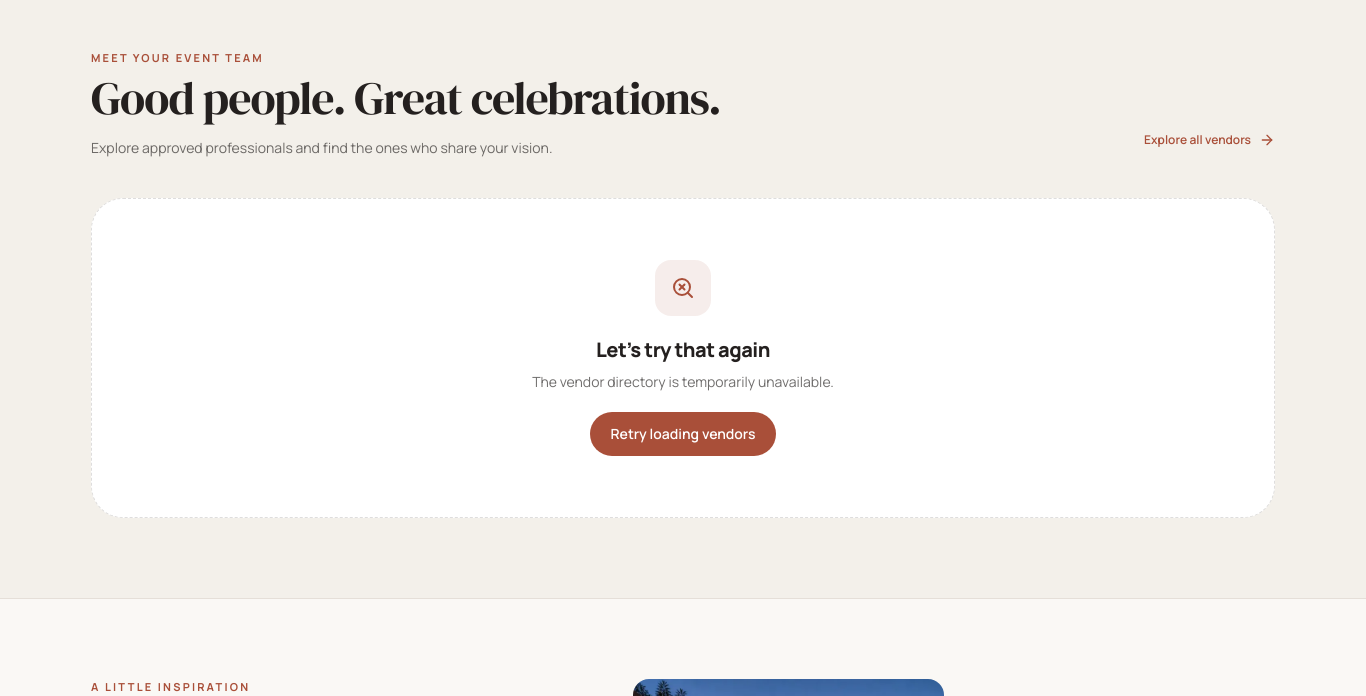
it: marketplace homepage › shows the actual API failure and retries without inserting example vendors
This screenshot has width=1366, height=696.
(page scrolled)
Expected: the text "The vendor directory is temporarily unavailable." is shown, 532,372 -> 834,392
Expected: the link "View details" is not shown
What coordinates should you click on to do the following:
click the button "Retry loading vendors"
I would click on:
 (683, 434)
Its box is 590,412 -> 776,456.
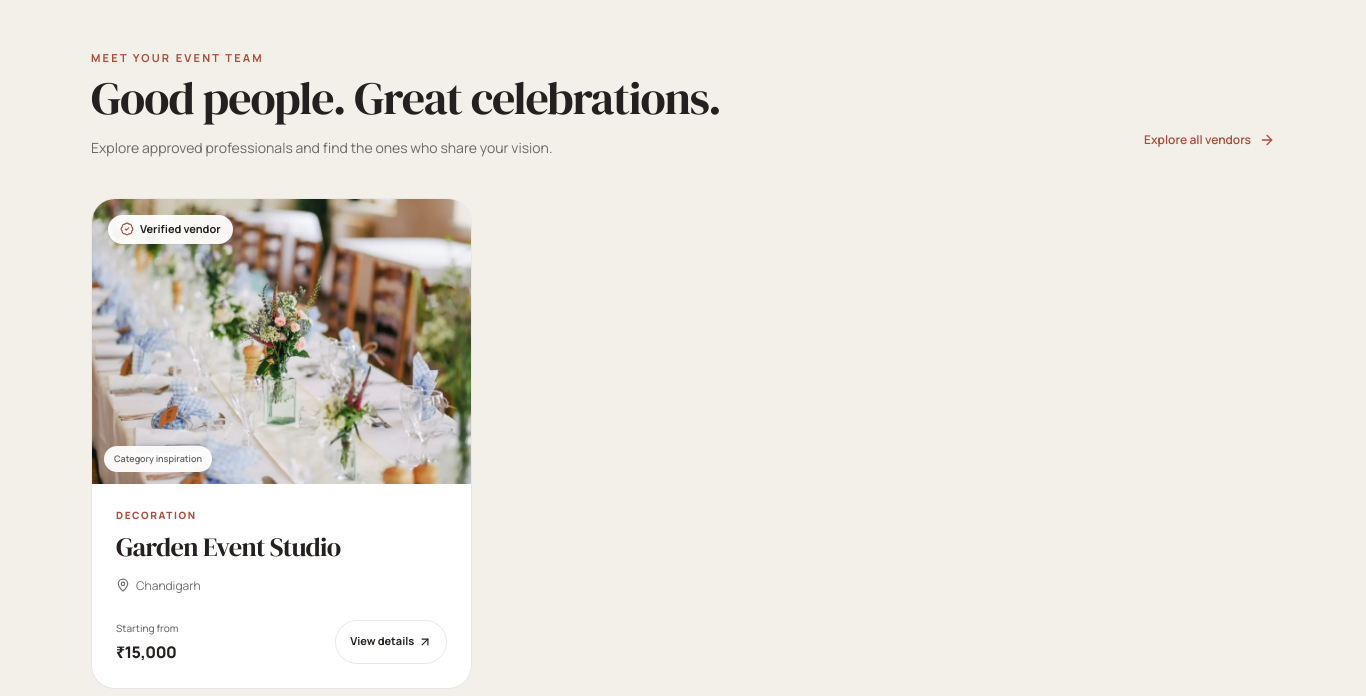
Expected: the heading "Garden Event Studio" is shown, 116,528 -> 340,564
